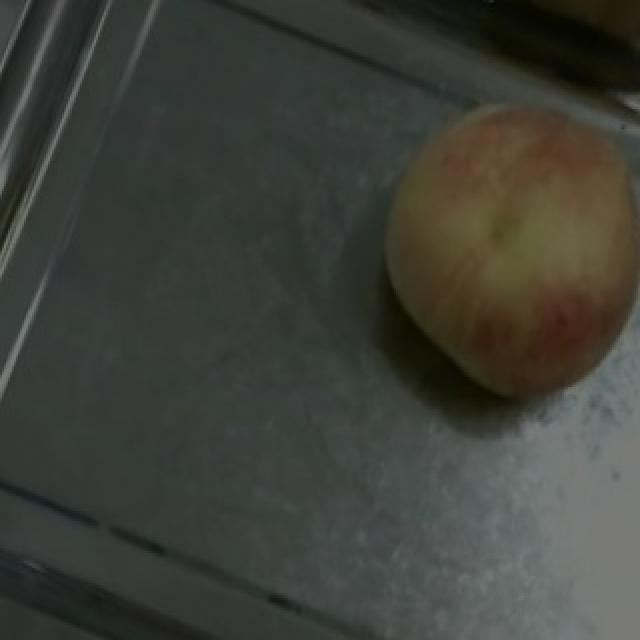Fruit: (334, 57, 640, 439)
